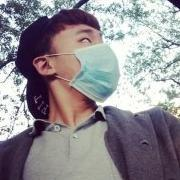face_mask: (53, 24, 106, 98)
